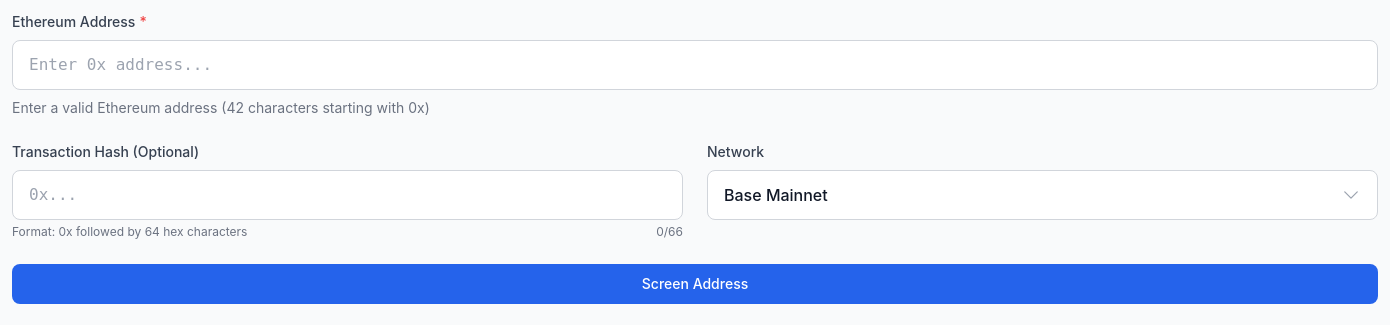
Test: ScreenForm › shows a validation error for an invalid address
Type "0xinvalid" into the dropdown labelled "Ethereum Address*" at {"x": 695, "y": 65}, box [12, 40, 1378, 90]
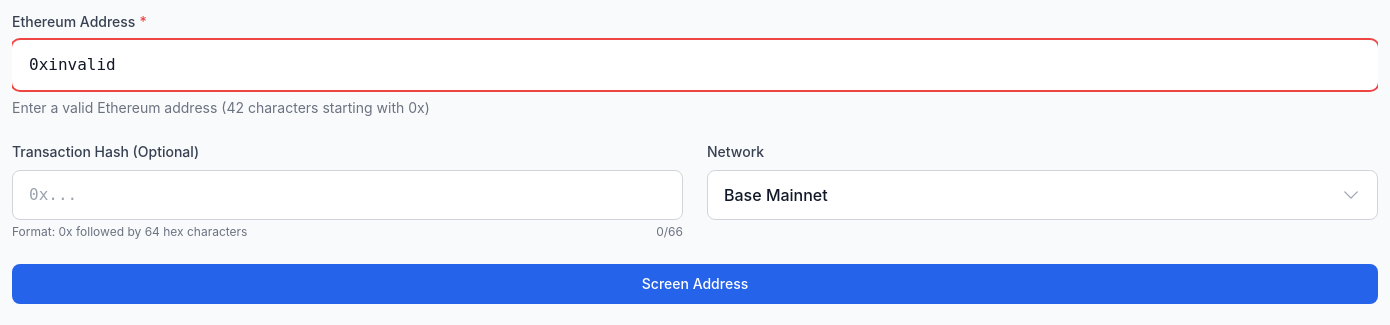
Click the button "Screen Address" at {"x": 695, "y": 284}, box [12, 264, 1378, 304]
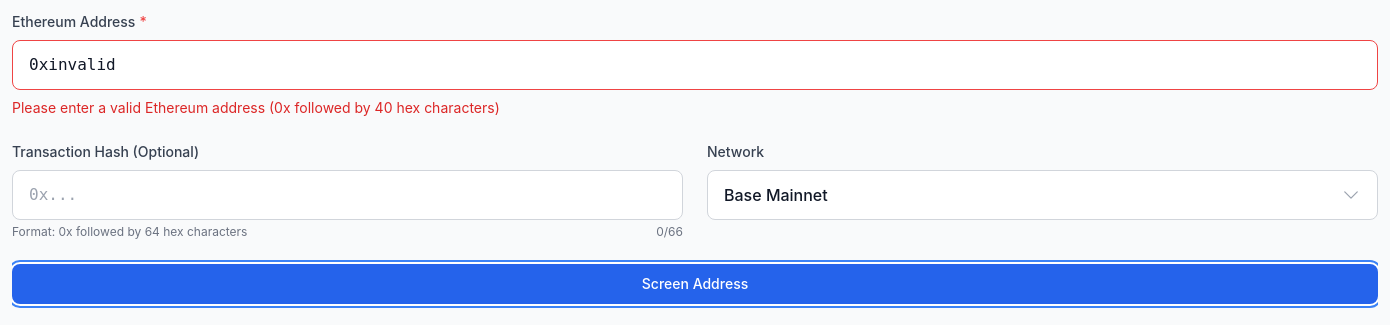
Check: the message shows "valid Ethereum address", box [12, 99, 500, 116]
